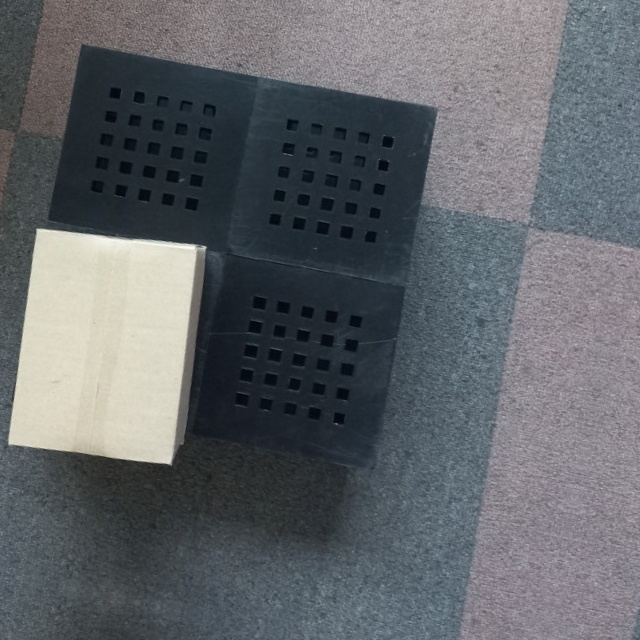box: (4, 224, 204, 472)
pallet: (17, 28, 451, 500)
